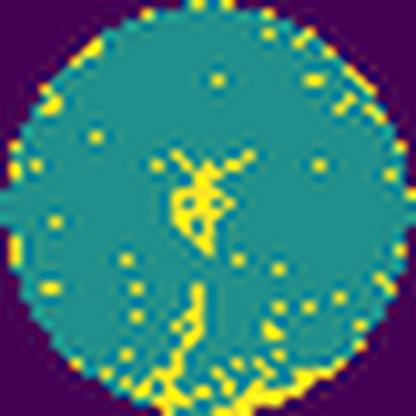Center: (162, 144, 262, 260)
